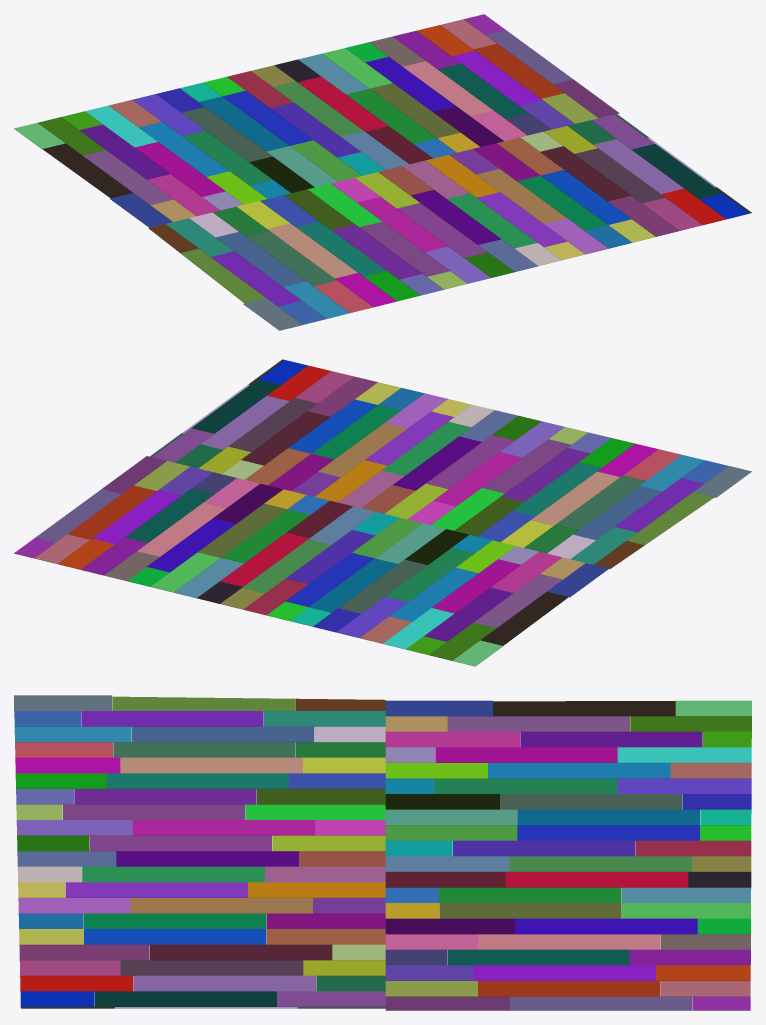
File: floor.fbx
3 views of the same model, one above another, from view 1: azimuth 30°, elevation 25°; view 2: azimuth 150°, elevation 25°; view 3: azimuth 270°, elevation 25° (orthographic). The views are drawn at different scales.
Visible parts, largest first — view 1: Floor.001; view 2: Floor.001; view 3: Floor.001.
Boxes of the visible parts, x1,y1,x2,y2 form: Floor.001: [14, 14, 751, 330]; Floor.001: [14, 359, 751, 666]; Floor.001: [14, 695, 751, 1010].
Bounding box in the file's own units: 816 × 0.5109 × 809.
